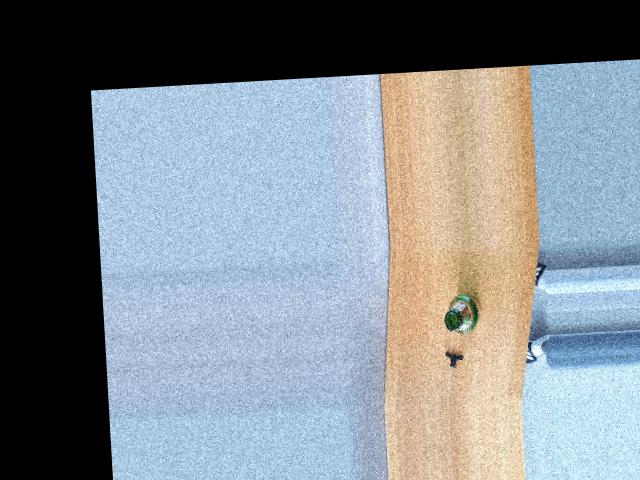beer: (443, 293, 483, 335)
